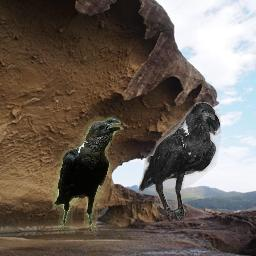Crow: (139, 102, 221, 221), (52, 116, 124, 234)
